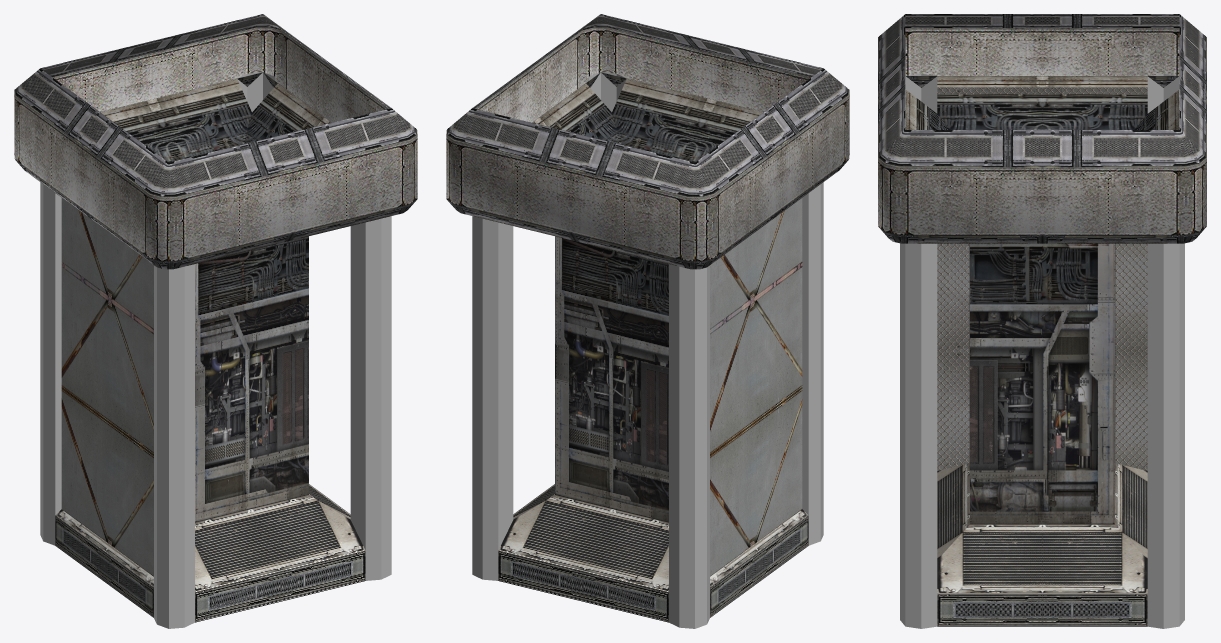
Rendered from Wall_E_Mid4mts_52.fbx.
The picture shows the model from 3 angles, left to right: view 1: azimuth 30°, elevation 25°; view 2: azimuth 150°, elevation 25°; view 3: azimuth 270°, elevation 25°; orthographic projection. The views are drawn at different scales.
Visible parts, largest first — view 1: Wall_Framework, Wall_E_Mid4mts_55; view 2: Wall_Framework, Wall_E_Mid4mts_55; view 3: Wall_Framework, Metal Grid.
Boxes of the visible parts, x1=… form: Wall_Framework: x1=14, y1=14, x2=417, y2=628; Wall_E_Mid4mts_55: x1=61, y1=198, x2=153, y2=576; Wall_Framework: x1=446, y1=14, x2=849, y2=628; Wall_E_Mid4mts_55: x1=710, y1=198, x2=802, y2=576; Wall_Framework: x1=878, y1=14, x2=1206, y2=628; Metal Grid: x1=937, y1=87, x2=1147, y2=470.
Size of the model in its own units: 240 by 400 by 240.
